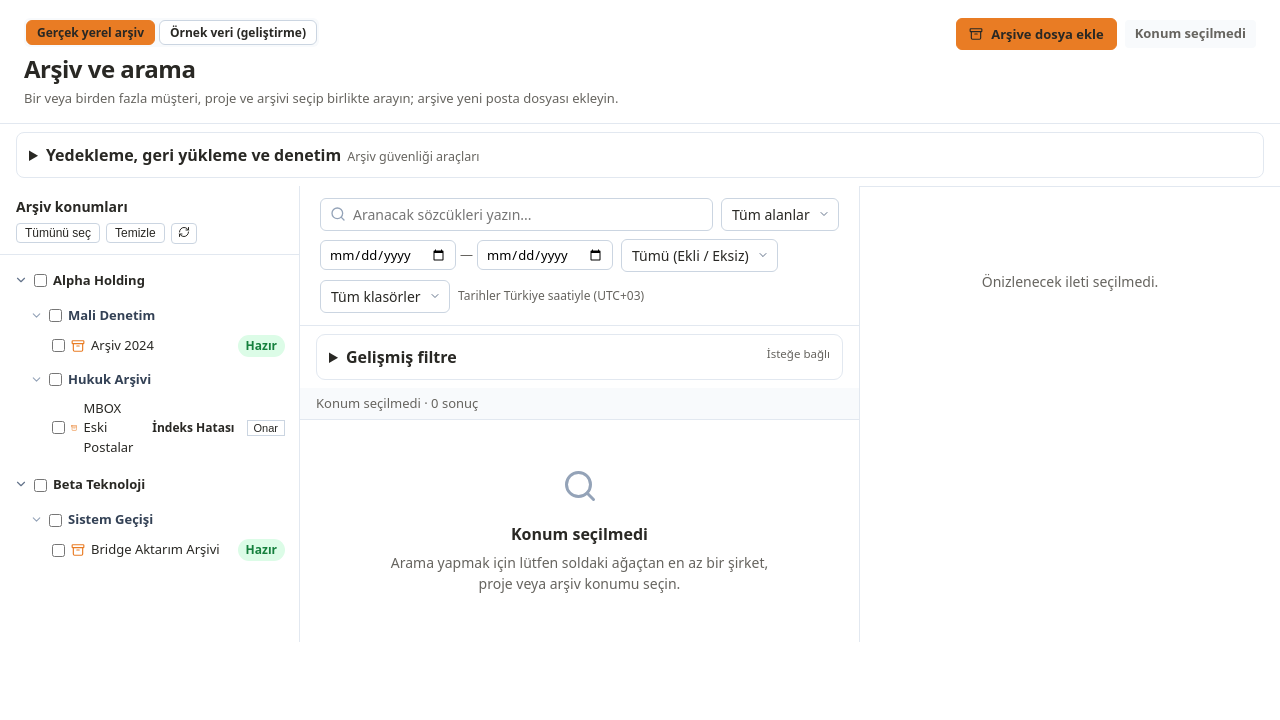
Test case: TASK-018 Local Archive and Search Frontend Tests › supports tri-state company/project/archive multi-selection and select all / clear actions
expect the text "Alpha Holding" is shown: met, box [53,271,145,289]
Note: Select company comp-alpha: selects arch-1 and arch-2
Step 1. Click the checkbox with test id "checkbox-company-comp-alpha" → (40, 280), box [34,274,47,287]
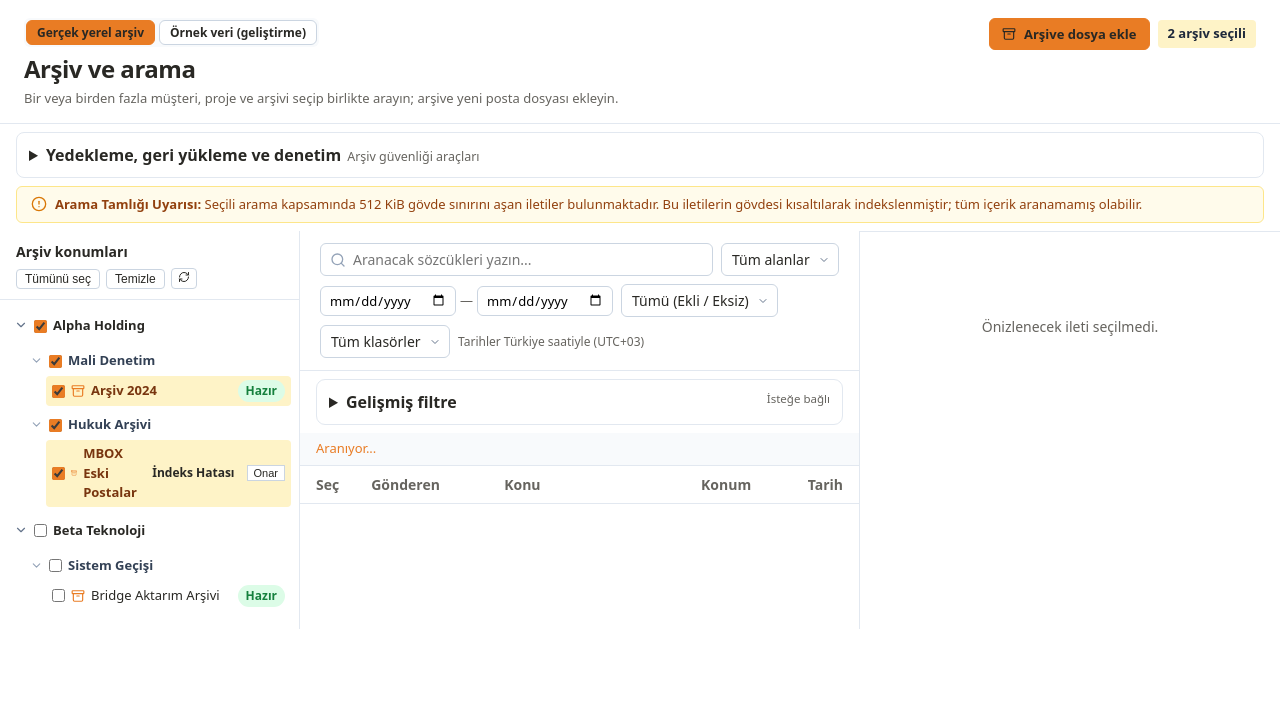
expect the checkbox with test id "checkbox-archive-arch-1" is checked: met, box [52,384,65,398]
expect the checkbox with test id "checkbox-archive-arch-2" is checked: met
expect the checkbox with test id "checkbox-project-proj-finance" is checked: met, box [49,354,62,368]
Note: Deselect single archive arch-2: comp-alpha becomes indeterminate!
Step 2. Click the checkbox with test id "checkbox-archive-arch-2" → (58, 473), box [52,467,65,480]
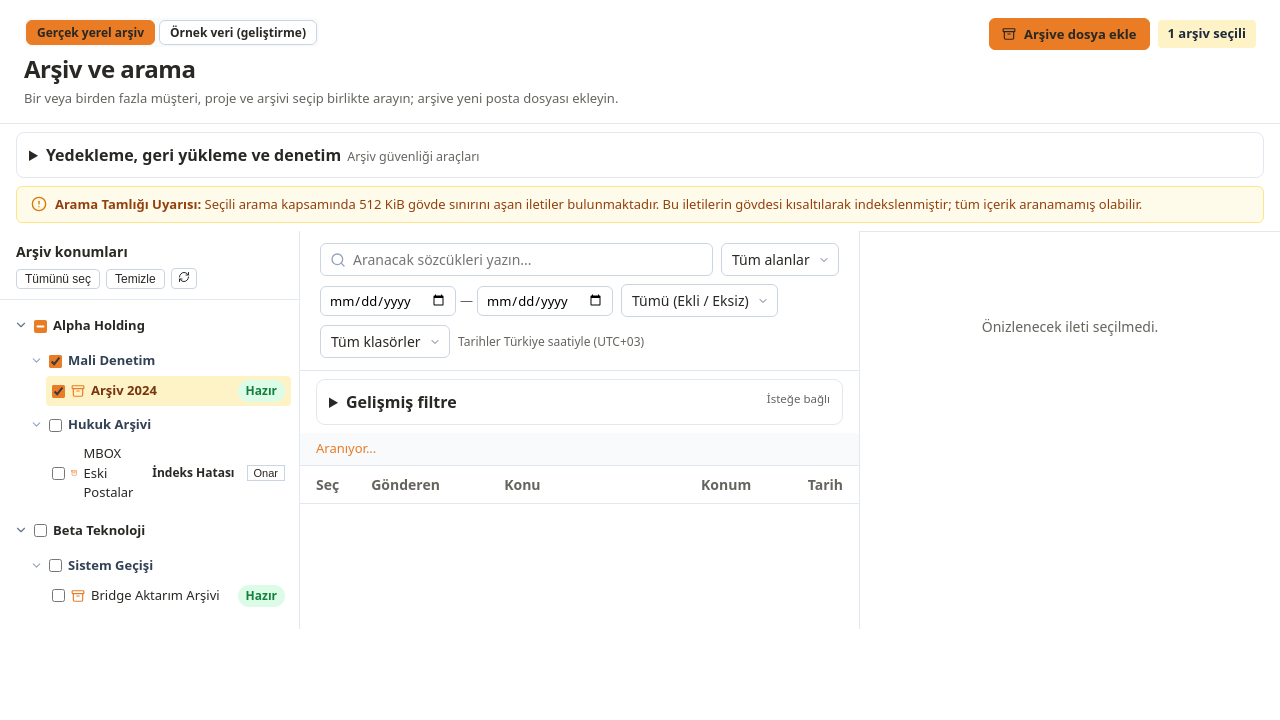
expect the checkbox with test id "checkbox-archive-arch-2" is not checked: met, box [52,467,65,480]
expect the checkbox with test id "checkbox-archive-arch-1" is checked: met, box [52,384,65,398]
Note: Select all button selects all archives in catalog
Step 3. Click the button with test id "search-select-all-btn" → (58, 278), box [16,268,100,288]
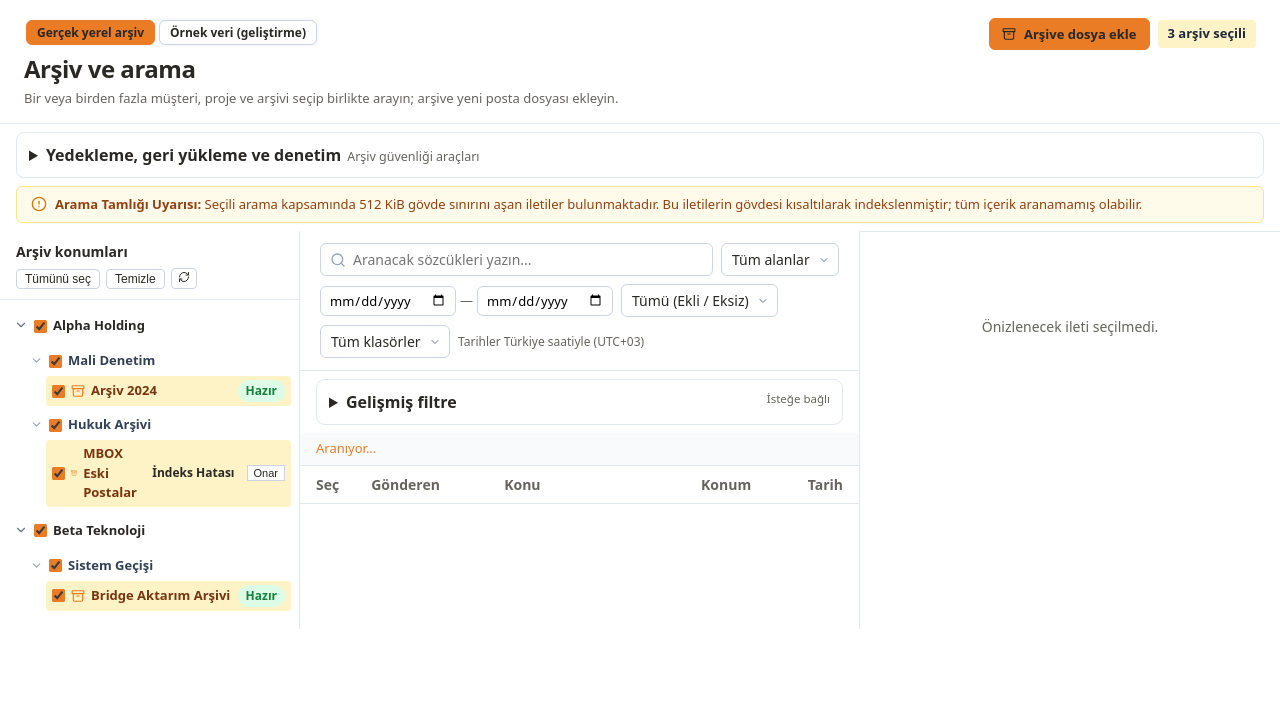
expect the checkbox with test id "checkbox-archive-arch-2" is checked: met, box [52,467,65,480]
expect the checkbox with test id "checkbox-company-comp-alpha" is checked: met, box [34,320,47,332]
expect the checkbox with test id "checkbox-archive-arch-1" is checked: met, box [52,384,65,398]
Note: Clear selection button clears all
Step 4. Click the button with test id "search-clear-selection-btn" → (135, 278), box [106,268,165,288]
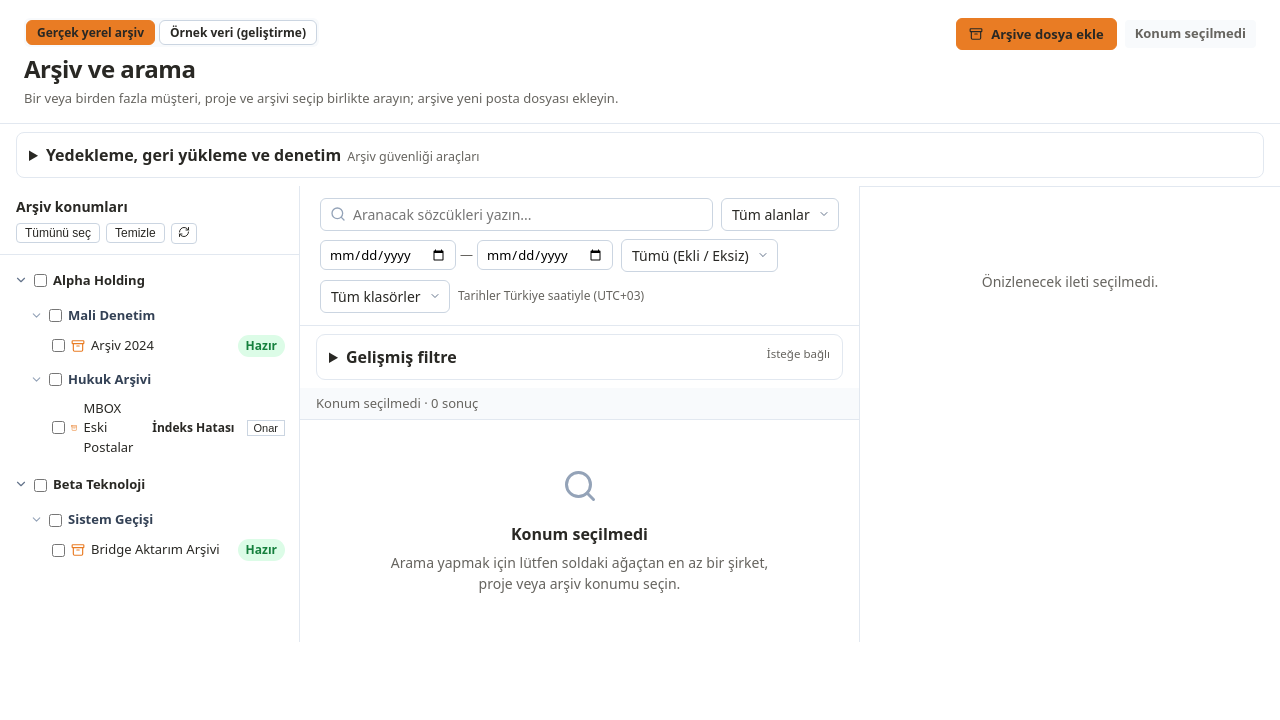
expect the checkbox with test id "checkbox-archive-arch-2" is not checked: met, box [52,421,65,434]
expect the checkbox with test id "checkbox-company-comp-alpha" is not checked: met, box [34,274,47,287]
expect the checkbox with test id "checkbox-archive-arch-1" is not checked: met, box [52,339,65,352]
